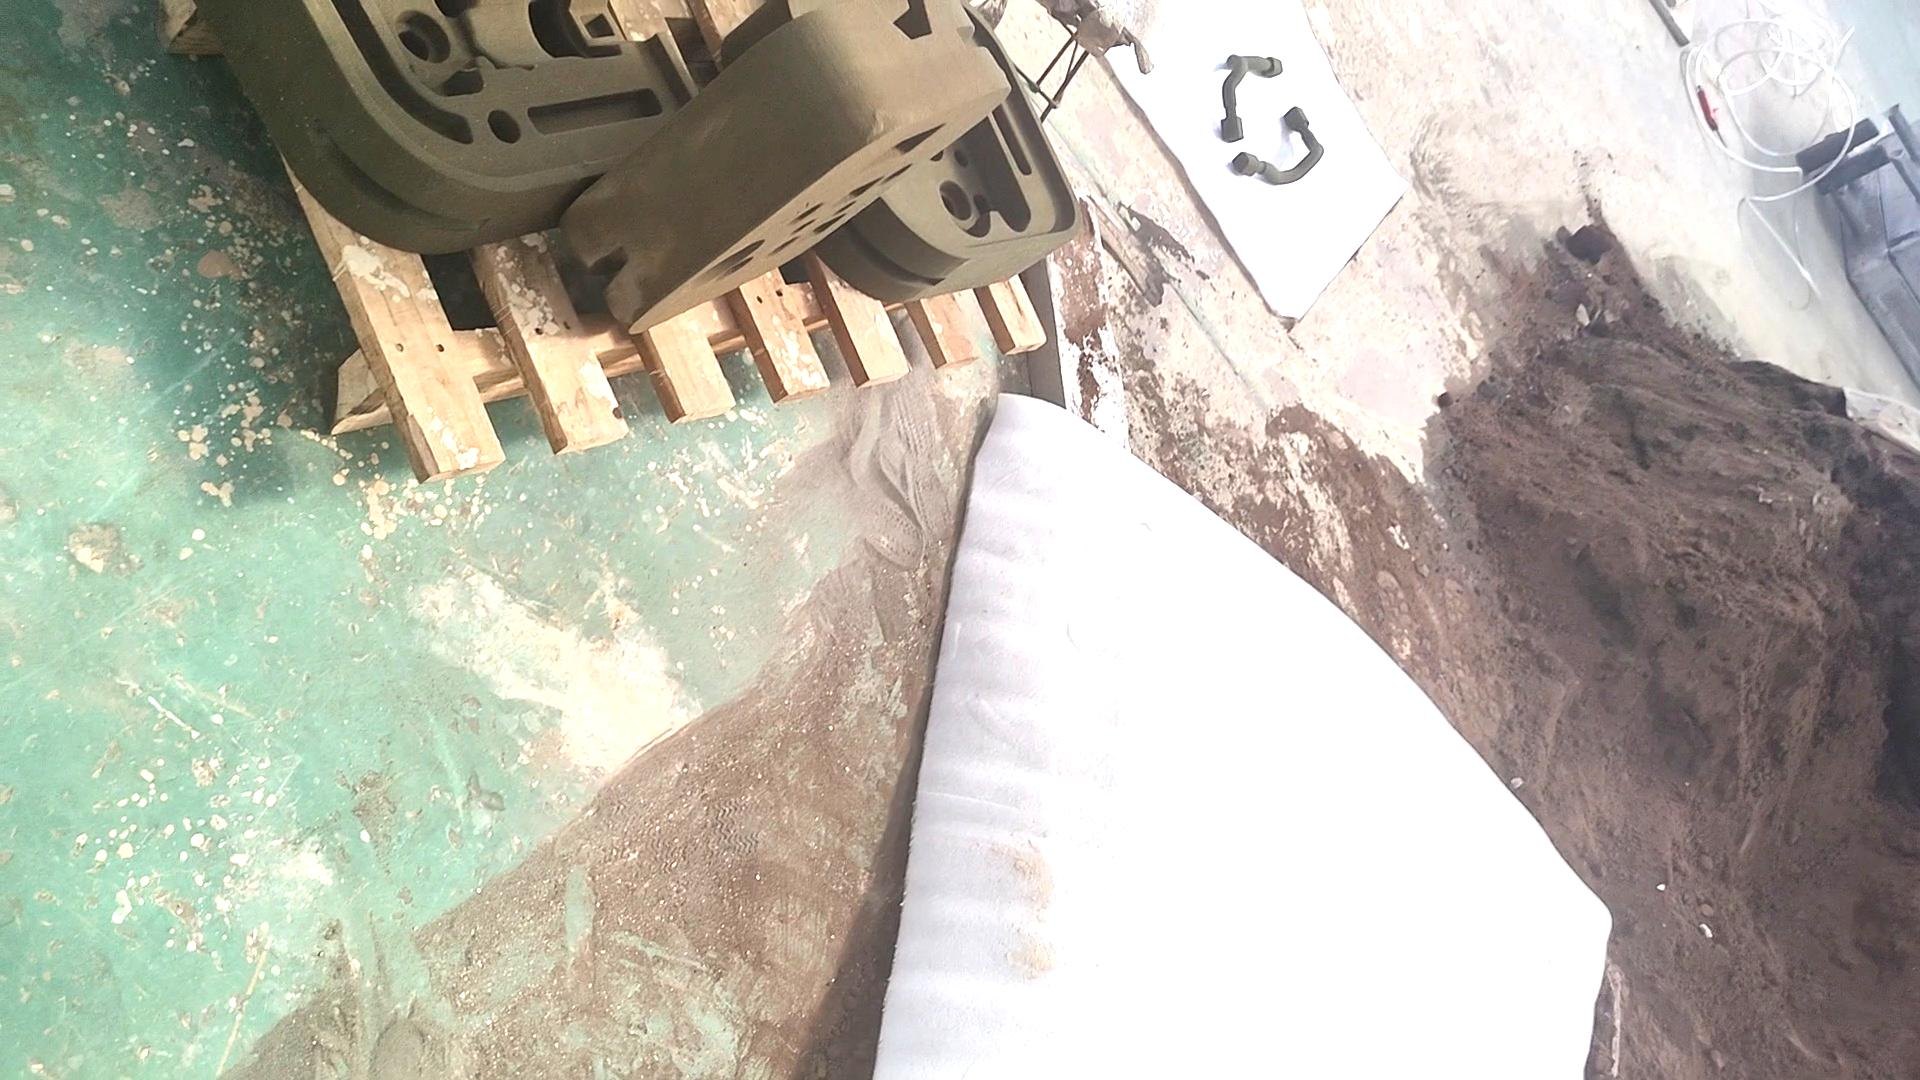pouring hole: (682, 237, 764, 299)
